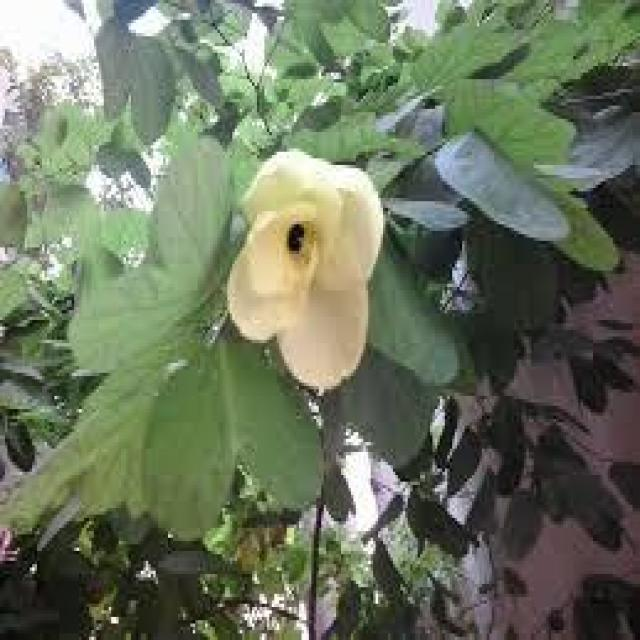organic waste: (227, 138, 393, 372)
